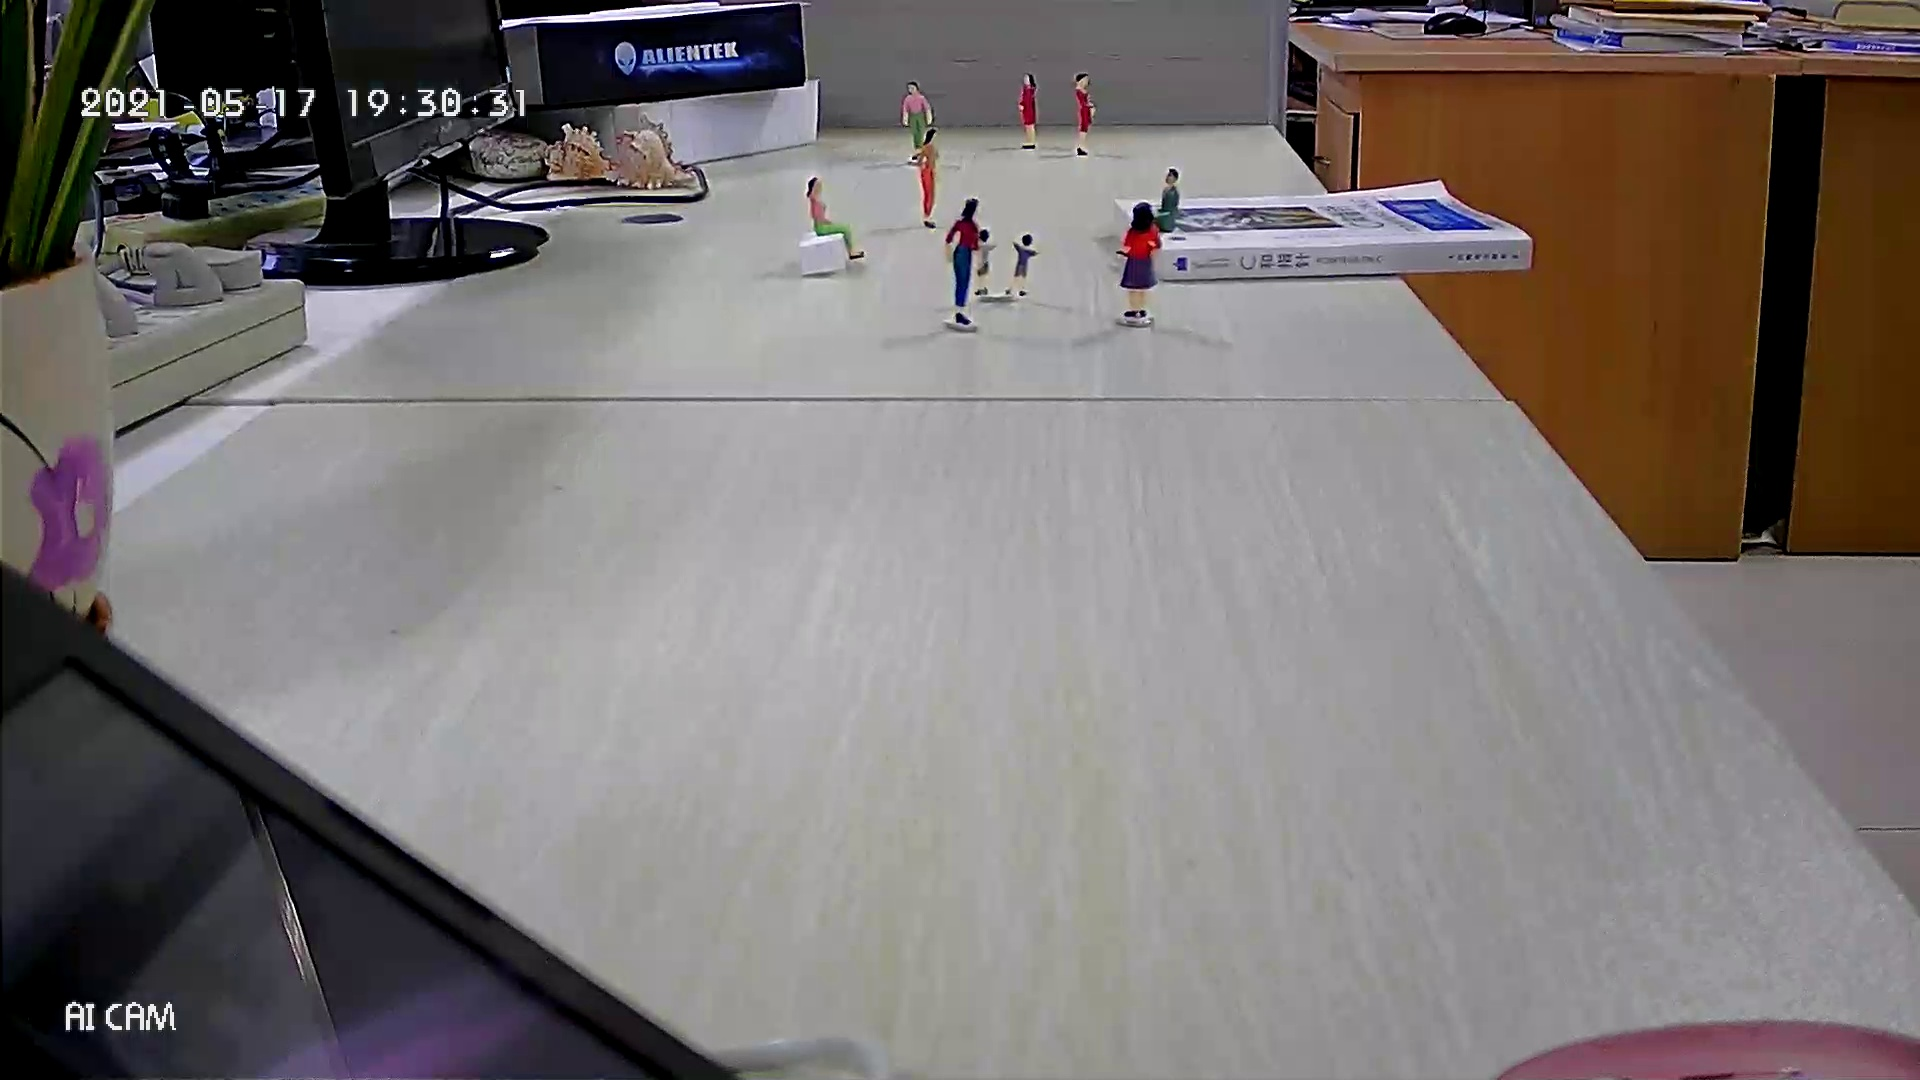person: (1115, 167, 1183, 258), (806, 175, 869, 263), (1117, 202, 1163, 319), (944, 196, 980, 328), (899, 80, 935, 162), (917, 125, 941, 233), (1004, 233, 1045, 299), (1073, 71, 1098, 159), (971, 228, 1002, 298), (1018, 72, 1041, 152)
